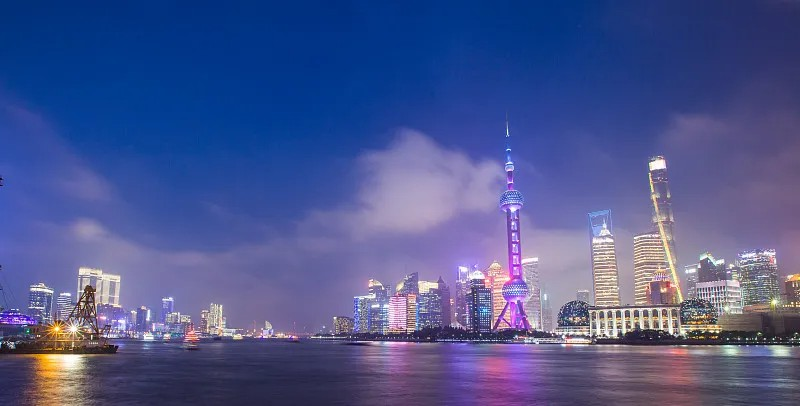Oriental: (491, 106, 534, 330)
